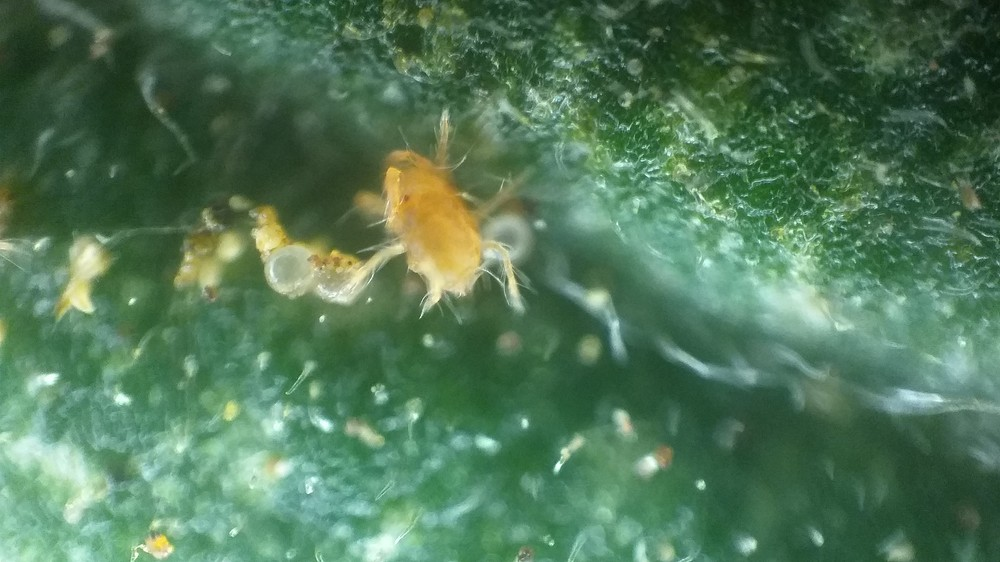Aracnido Rojo: (342, 125, 546, 335)
